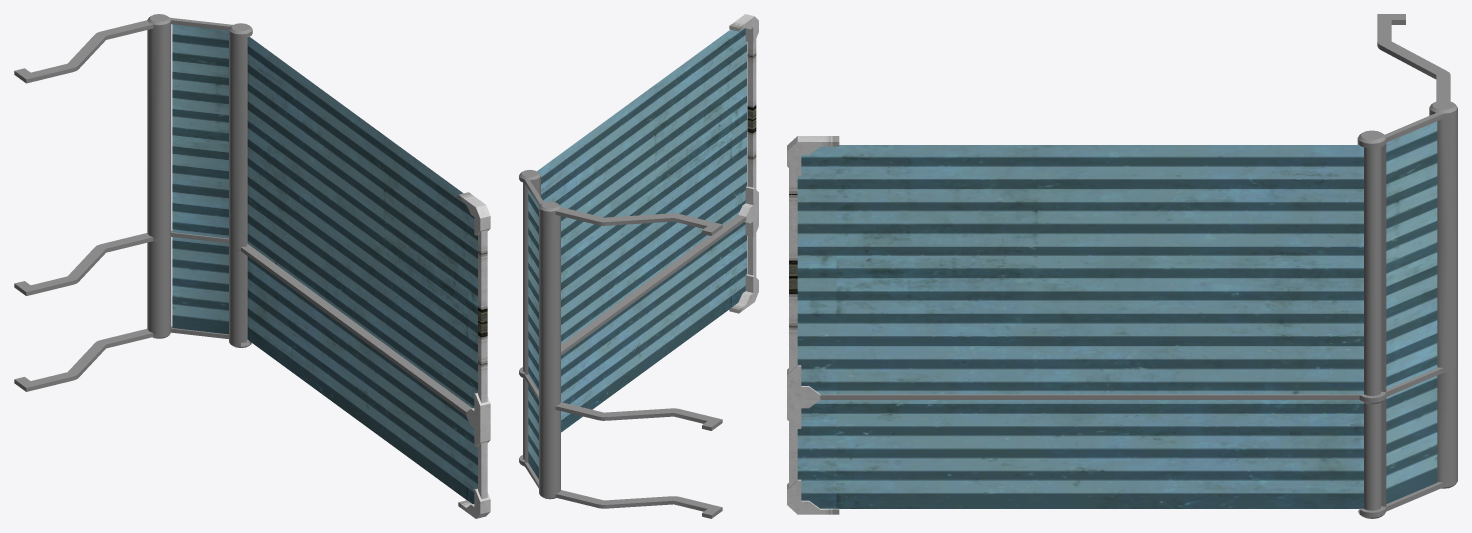
Rendered from Neon_SignFrame_01.FBX.
3 views of the same model, side by side, from view 1: azimuth 30°, elevation 25°; view 2: azimuth 150°, elevation 25°; view 3: azimuth 270°, elevation 25° (orthographic). The views are drawn at different scales.
Parts seen in each view (by area): view 1: Neon_SignFrame_01; view 2: Neon_SignFrame_01; view 3: Neon_SignFrame_01.
Part boxes in pixels (x1=…): Neon_SignFrame_01: x1=14, y1=14, x2=490, y2=518; Neon_SignFrame_01: x1=519, y1=14, x2=758, y2=518; Neon_SignFrame_01: x1=787, y1=14, x2=1457, y2=518.
Bounding box in the file's own units: 2.15 × 2.92 × 4.69.
